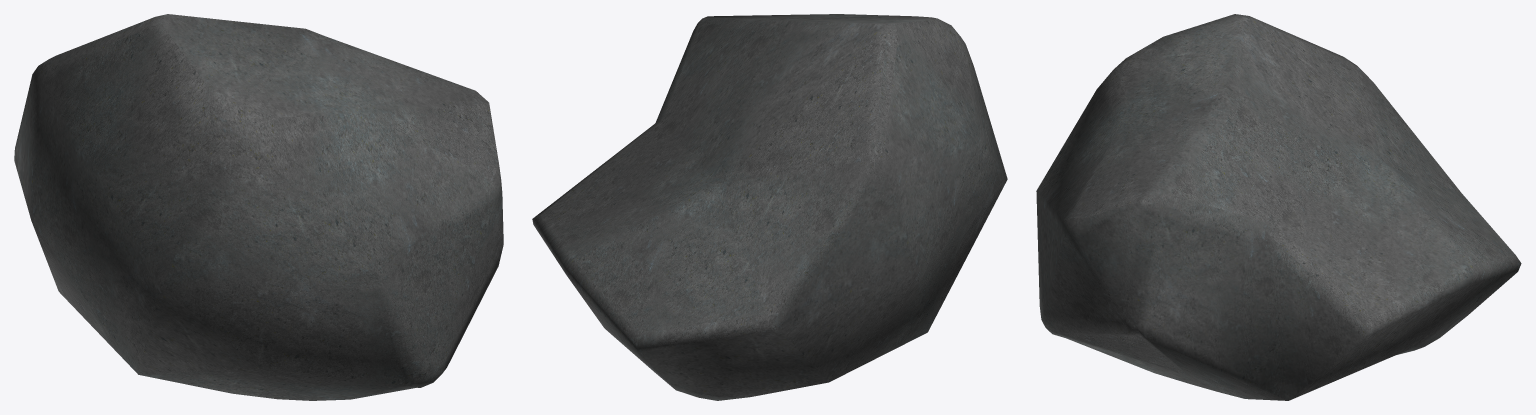
File: rock.016.obj
3 views of the same model, side by side, from view 1: azimuth 30°, elevation 25°; view 2: azimuth 150°, elevation 25°; view 3: azimuth 270°, elevation 25° (orthographic). The views are drawn at different scales.
Size of the model in its own units: 2.42 by 2.3 by 3.13.
Materials: 1 (1 with a texture image).
